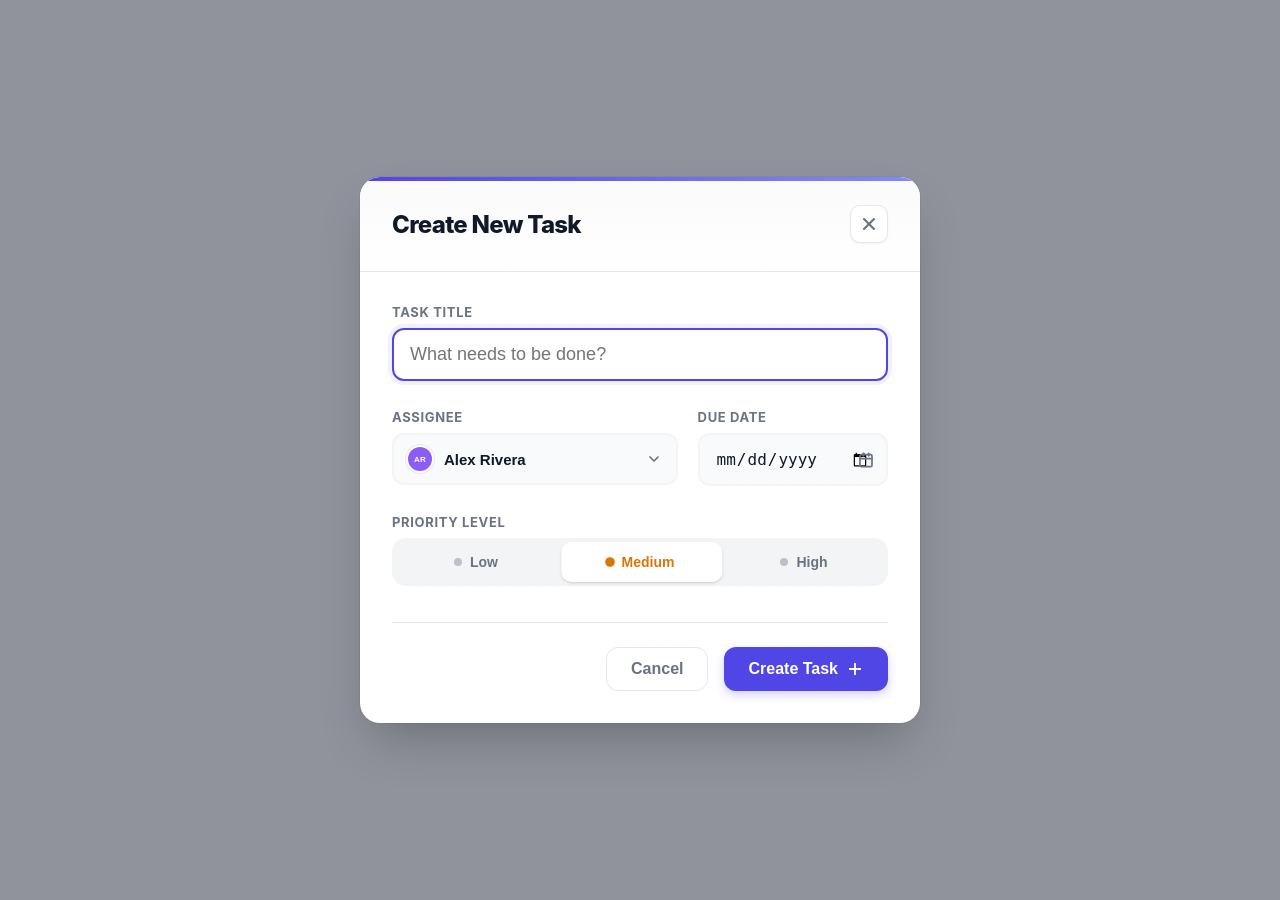
Test case: NewTaskModal – assignee dropdown › lists all 5 team members in the dropdown
This screenshot has width=1280, height=900.
What coordinates should you click on to do the following:
click the button named "Assignee"
I would click on:
 (485, 459)
Its box is [392,433,678,485].
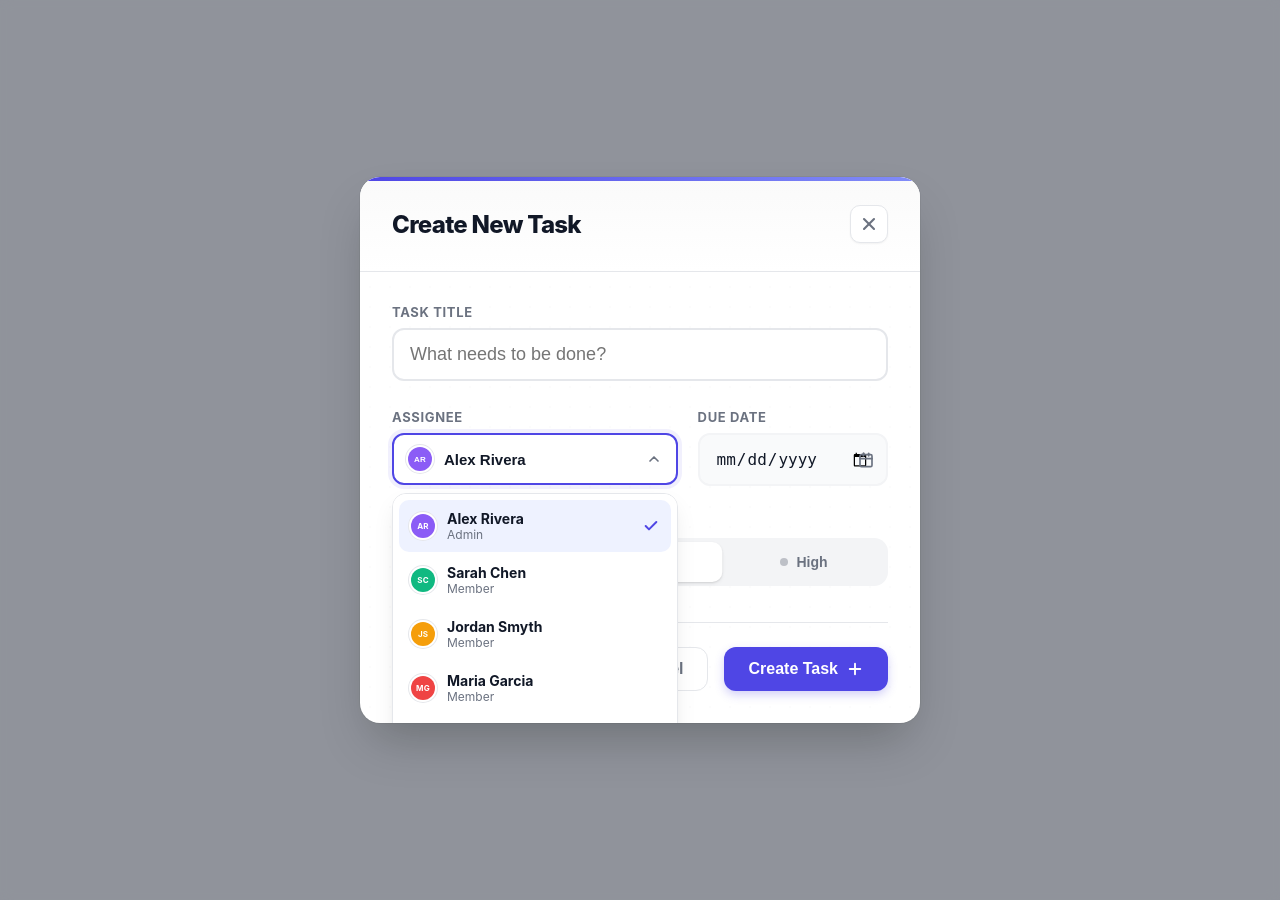
Expected: the number of options is 5
